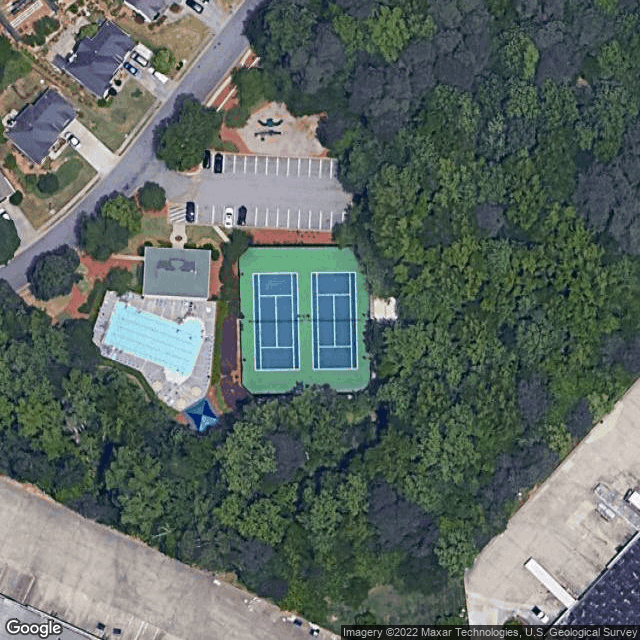Court: (250, 271, 302, 372), (309, 270, 358, 371)
